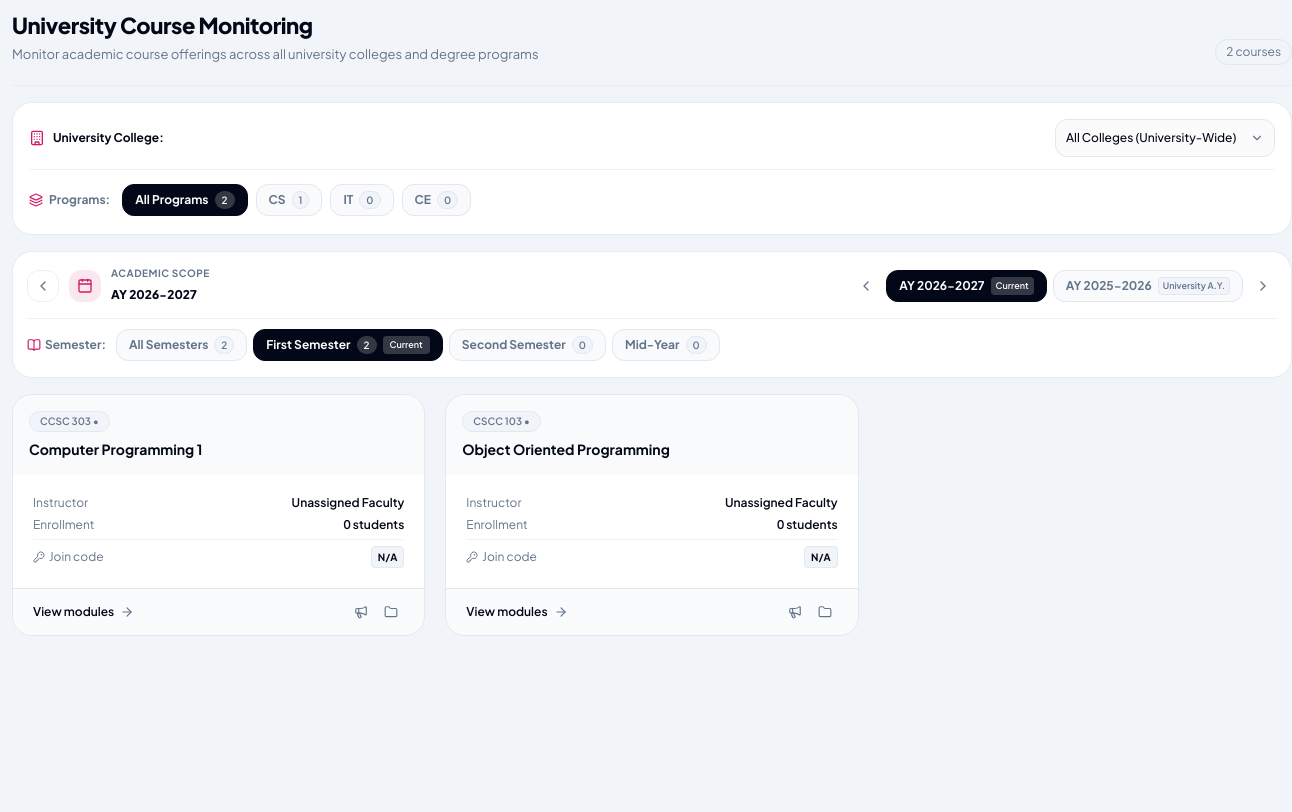
Test: DashboardPage admin access › admin sees courses when baseline is 2025-2026 but courses belong to AY 2026-2027
Expected: the heading "Computer Programming 1" is shown, [29,440,202,458]
Expected: the heading "Object Oriented Programming" is shown, [462,440,670,458]
Admin can switch to Baseline 2025-2026
What coordinates should you click on to do the following:
click the button with test id "academic-scope-baseline-badge"
I would click on:
 (1148, 286)
Its box is [1053,270,1243,302].
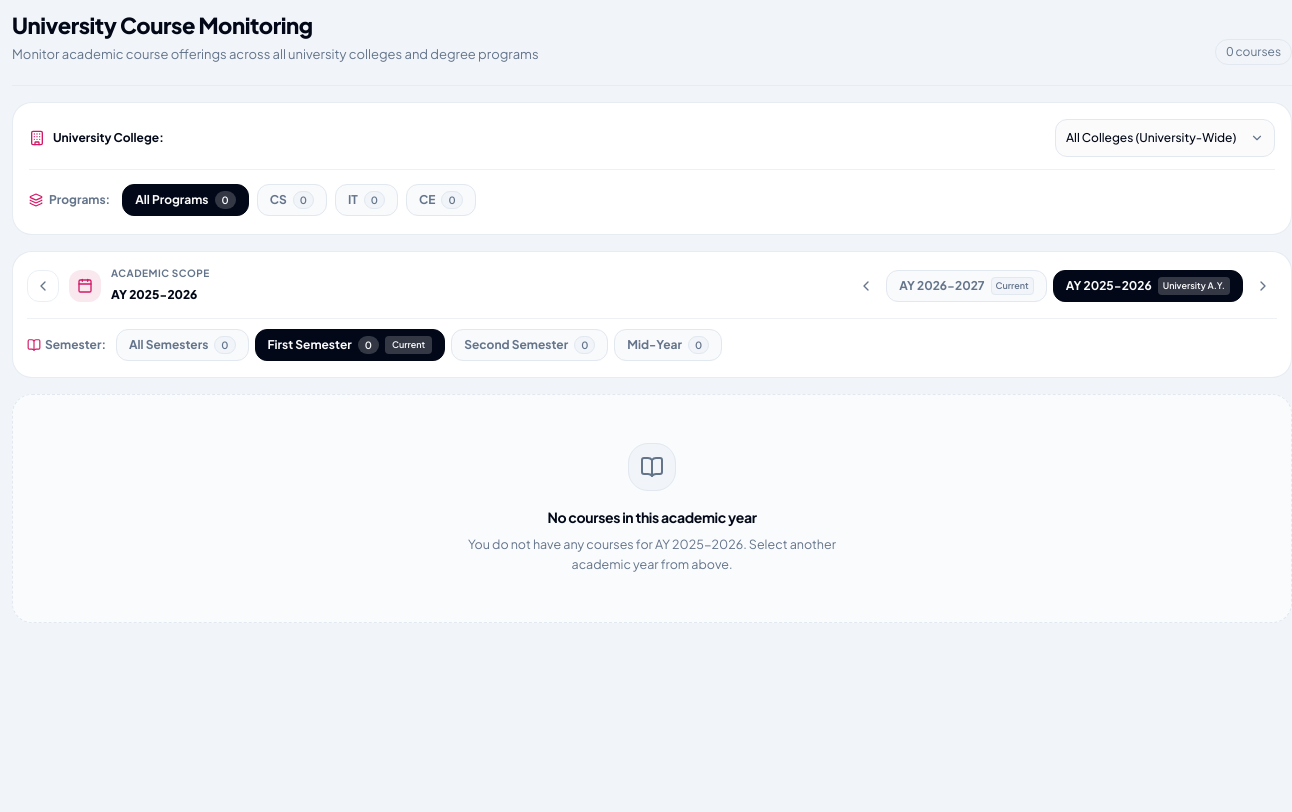
Expected: the heading "No courses in this academic year" is shown, [547,508,757,526]
Admin can switch back to 2026-2027
What coordinates should you click on to do the following:
click the button "AY 2026-2027 Current"
I would click on:
 (967, 286)
Its box is [886,270,1047,302].
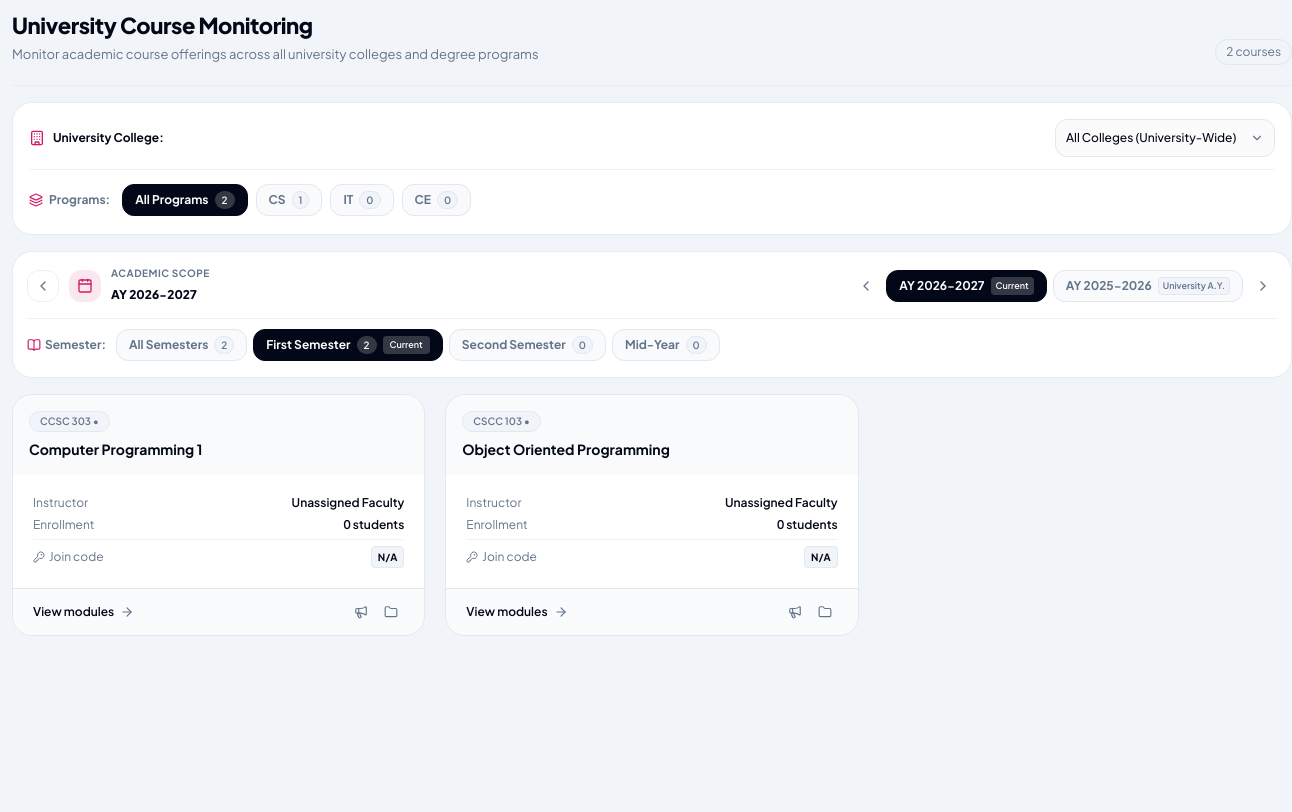
Expected: the heading "Computer Programming 1" is shown, [29,440,202,458]
